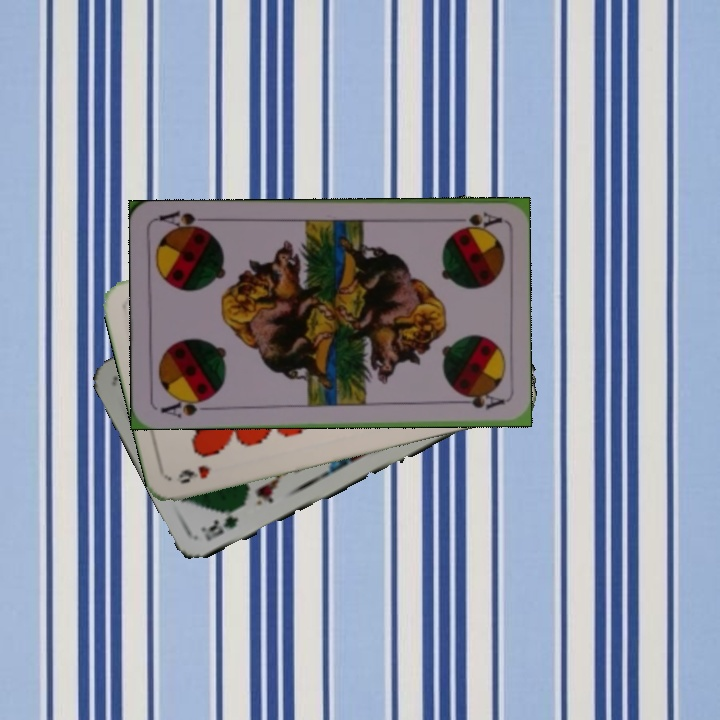GK: (198, 512, 241, 544)
H9: (174, 461, 213, 487)
SA: (157, 393, 215, 420), (444, 207, 503, 232)
